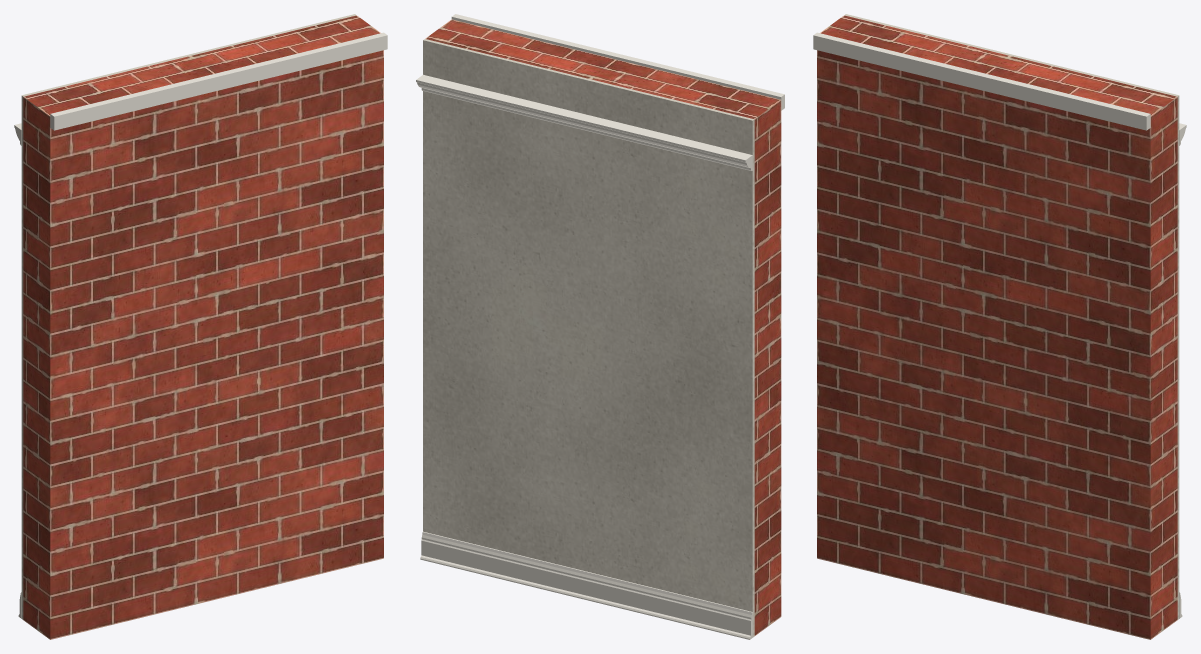
The model's file is wall_brick_plain.glb.
The picture shows the model from 3 angles, left to right: view 1: azimuth 30°, elevation 25°; view 2: azimuth 150°, elevation 25°; view 3: azimuth 330°, elevation 25°; orthographic projection.
Parts seen in each view (by area): view 1: wall_brick_plain_brick, wall_brick_plain_trim, wall_brick_plain_plaster; view 2: wall_brick_plain_plaster, wall_brick_plain_brick, molduras, wall_brick_plain_trim; view 3: wall_brick_plain_brick, wall_brick_plain_trim, wall_brick_plain_plaster.
Boxes of the visible parts, box(x1,y1,x2,y2) form: wall_brick_plain_brick: box(23, 15, 383, 639); wall_brick_plain_trim: box(50, 32, 387, 130); wall_brick_plain_plaster: box(21, 14, 356, 619); wall_brick_plain_plaster: box(423, 39, 754, 637); wall_brick_plain_brick: box(425, 19, 781, 635); molduras: box(416, 74, 752, 639); wall_brick_plain_trim: box(451, 14, 784, 110); wall_brick_plain_brick: box(817, 15, 1177, 639); wall_brick_plain_trim: box(813, 32, 1150, 130); wall_brick_plain_plaster: box(844, 14, 1179, 619).
Bounding box in the file's own units: 2 × 3.02 × 0.415.
Materials: 3 (2 with a texture image).
